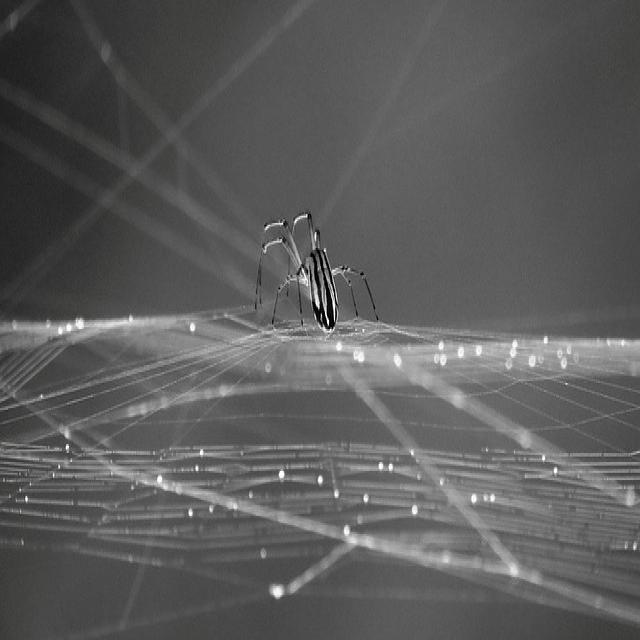spyder: (262, 212, 339, 333)
